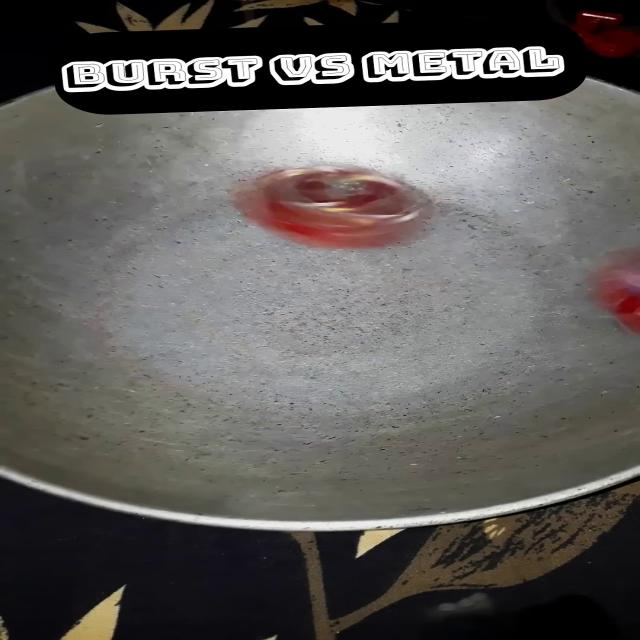beyblade: (223, 143, 458, 261), (569, 230, 640, 362)
